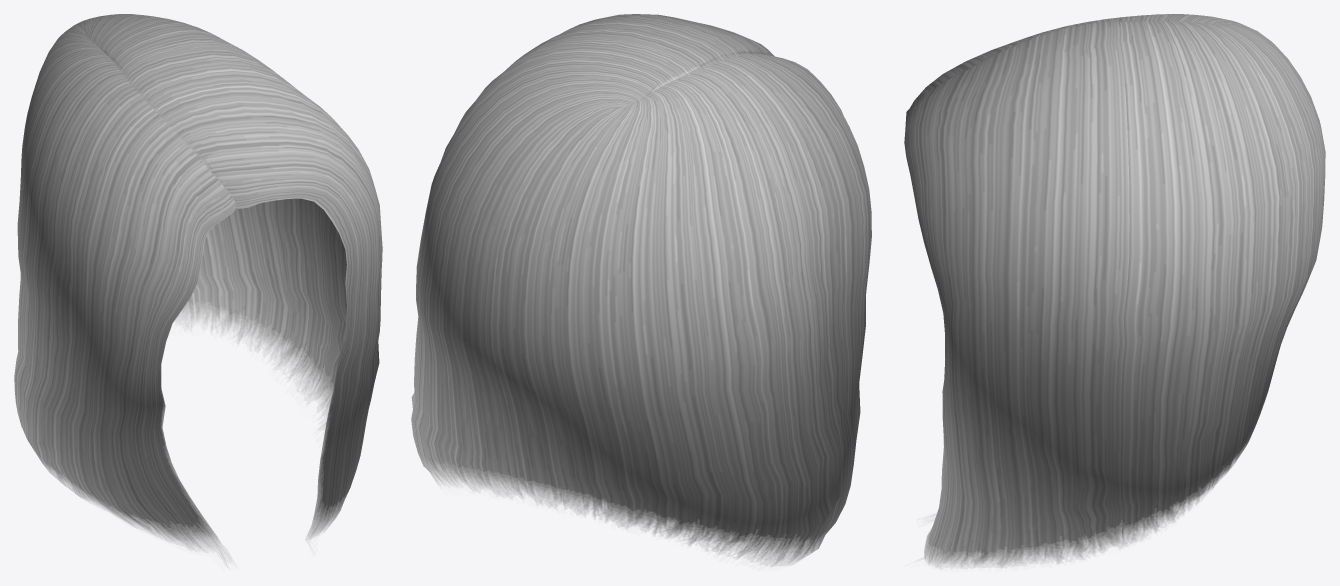
Rendered from daz_hair_wolf_clavicle.glb.
3 renders of one model, left to right at view 1: azimuth 30°, elevation 25°; view 2: azimuth 150°, elevation 25°; view 3: azimuth 270°, elevation 25°, orthographic. The views are drawn at different scales.
Parts seen in each view (by area): view 1: daz_hair_wolf_clavicle; view 2: daz_hair_wolf_clavicle; view 3: daz_hair_wolf_clavicle.
Part boxes in pixels (x1=…): daz_hair_wolf_clavicle: x1=14, y1=14, x2=382, y2=567; daz_hair_wolf_clavicle: x1=411, y1=14, x2=871, y2=566; daz_hair_wolf_clavicle: x1=904, y1=14, x2=1325, y2=568.
Size of the model in its own units: 0.1897 by 0.2651 by 0.2009.
1 material, 1 textured.
